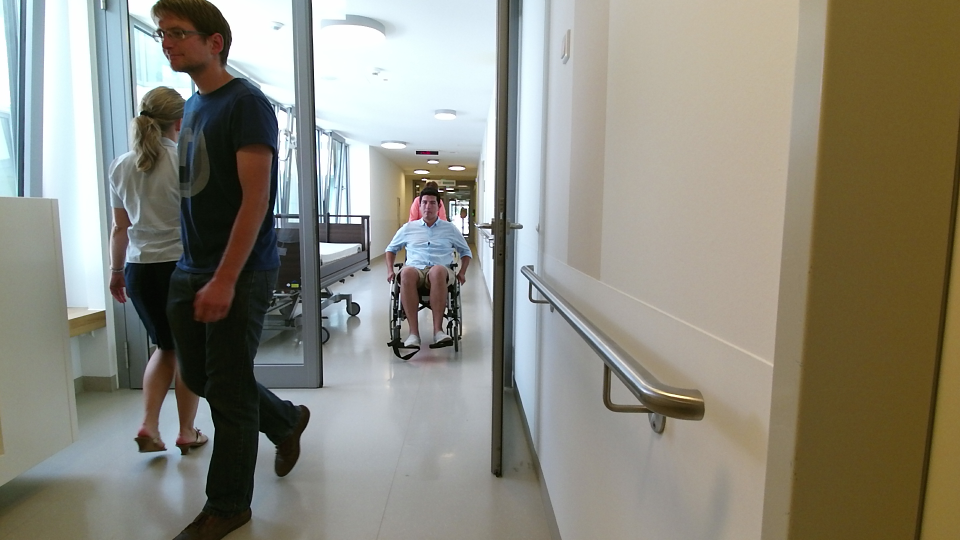wheelchair: (375, 188, 470, 367)
